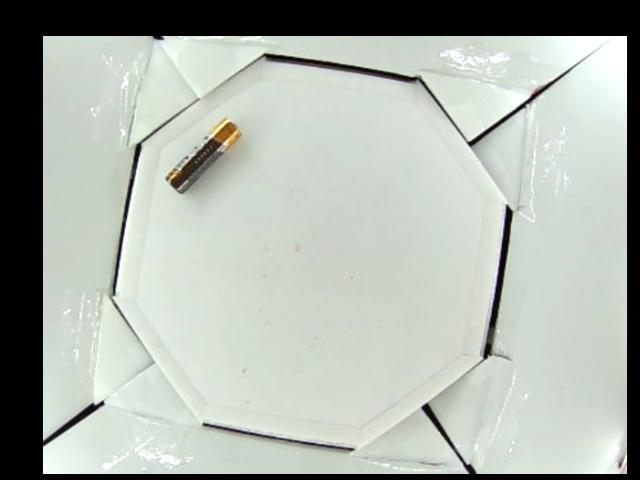Battery: (164, 115, 243, 192)
